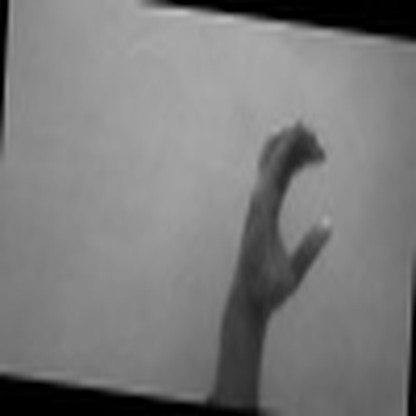c: (229, 114, 338, 310)
